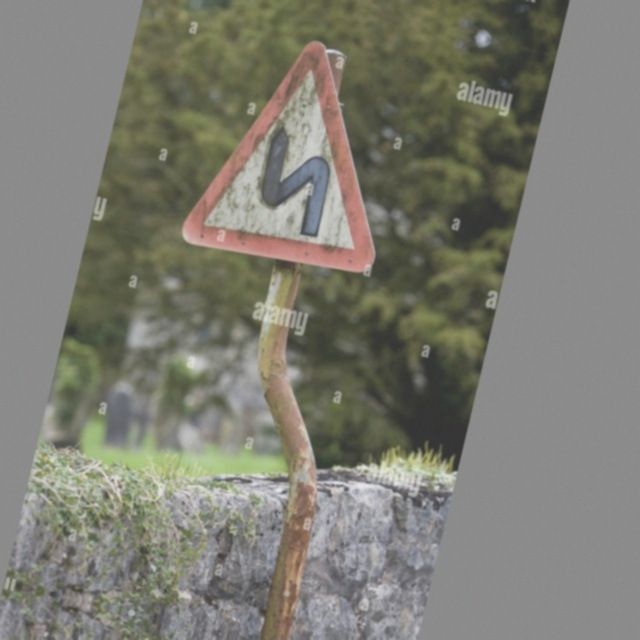Left_Reverse_Bend: (178, 20, 424, 284)
